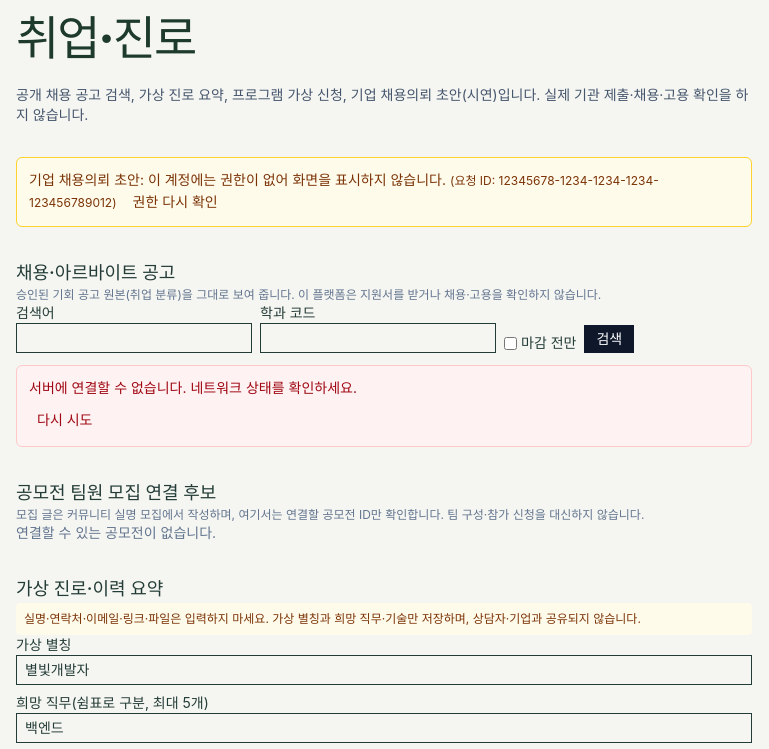
Test: CareersPage › renders empty lists and retries the job list after a network error
Expected: the text "연결할 수 있는 공모전이 없습니다." is shown, top-left (16, 524), bottom-right (216, 541)
Click the button "다시 시도": (65, 420) top-left (29, 406), bottom-right (100, 434)
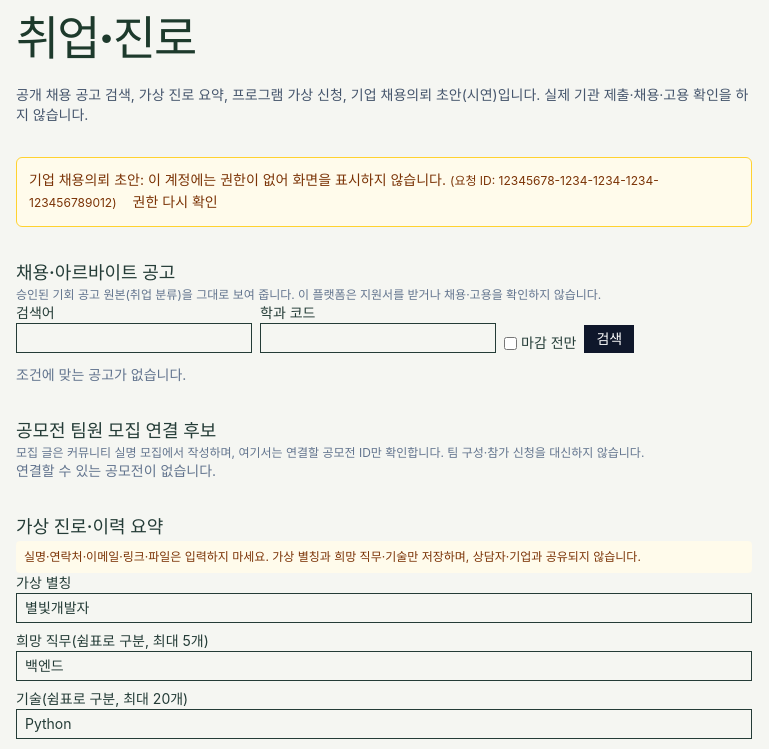
Result: the text "조건에 맞는 공고가 없습니다." is shown at top-left (16, 366), bottom-right (186, 383)
